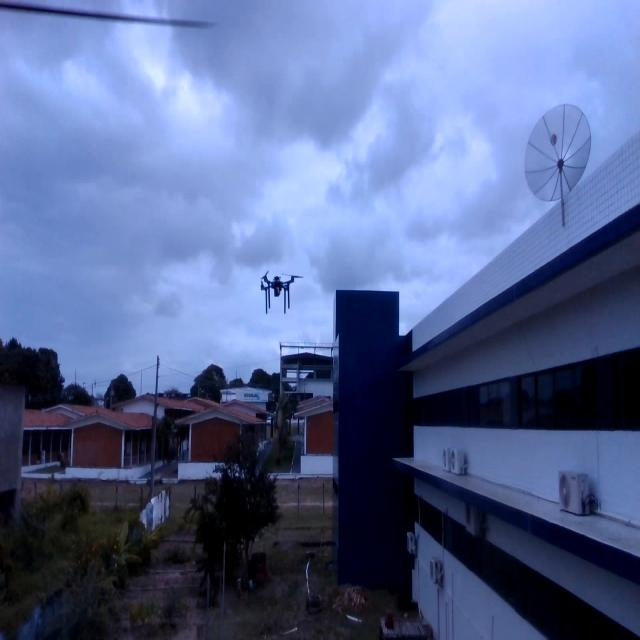-uav-: (253, 259, 304, 320)
